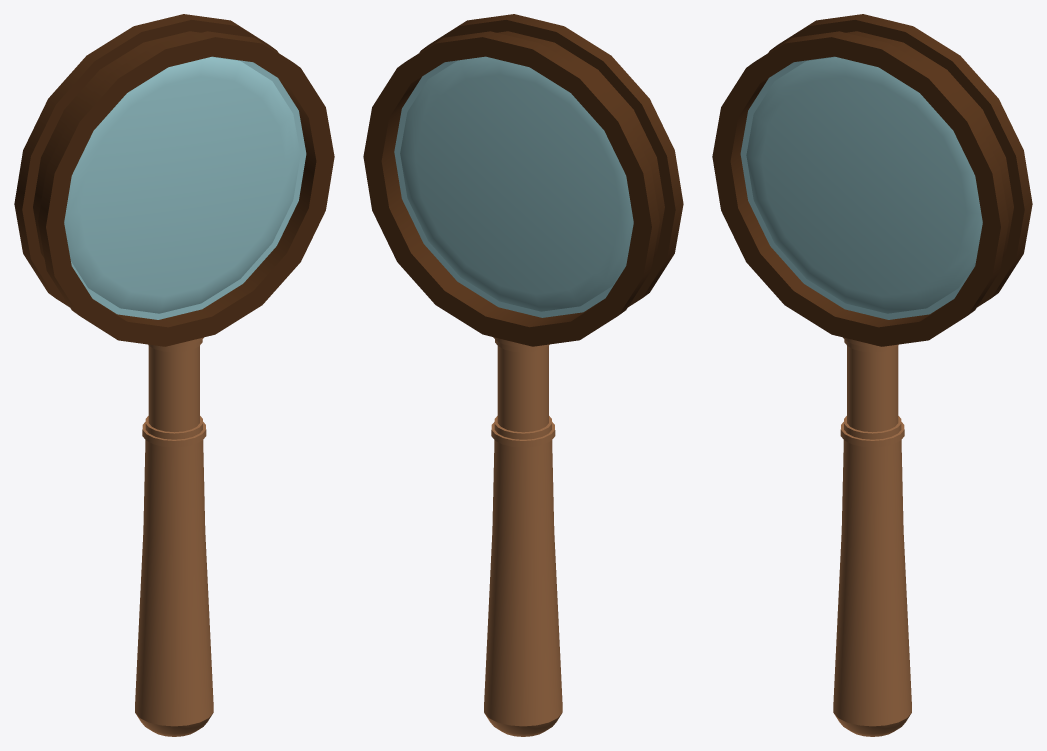
The model's file is 放大镜镜片框架版.fbx.
The picture shows the model from 3 angles, left to right: view 1: azimuth 30°, elevation 25°; view 2: azimuth 150°, elevation 25°; view 3: azimuth 330°, elevation 25°; orthographic projection.
Parts seen in each view (by area): view 1: 鏀惧ぇ闀滄焺, 鏀惧ぇ闀滅墖; view 2: 鏀惧ぇ闀滄焺, 鏀惧ぇ闀滅墖; view 3: 鏀惧ぇ闀滄焺, 鏀惧ぇ闀滅墖.
Part boxes in pixels (x1,y1,x2,y2): 鏀惧ぇ闀滄焺: (14, 14, 334, 736); 鏀惧ぇ闀滅墖: (64, 56, 306, 319); 鏀惧ぇ闀滄焺: (363, 14, 683, 736); 鏀惧ぇ闀滅墖: (394, 56, 633, 317); 鏀惧ぇ闀滄焺: (712, 14, 1032, 736); 鏀惧ぇ闀滅墖: (740, 56, 982, 319).
Size of the model in its own units: 10 by 23.09 by 2.36.
